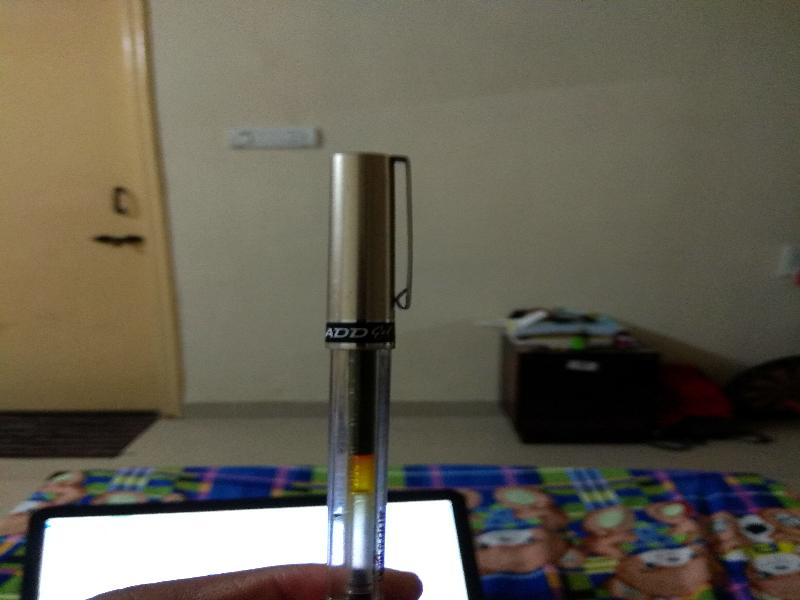pen: (315, 143, 418, 600)
